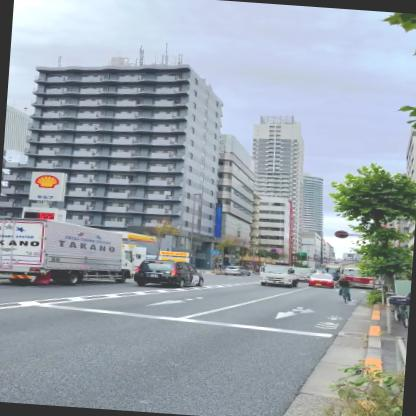car: (135, 258, 206, 290), (310, 272, 334, 290)
motorcycle: (336, 278, 356, 305)
truck: (0, 216, 134, 293), (258, 263, 300, 287)
